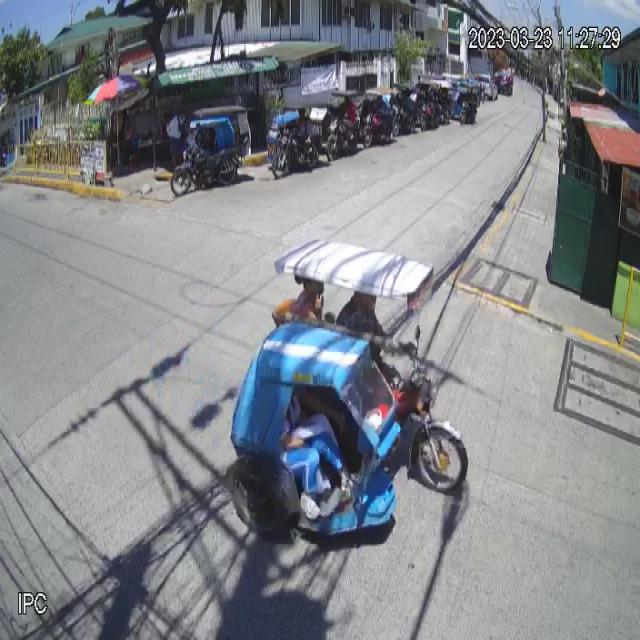Tricycle: (225, 240, 470, 541), (169, 105, 253, 198)
